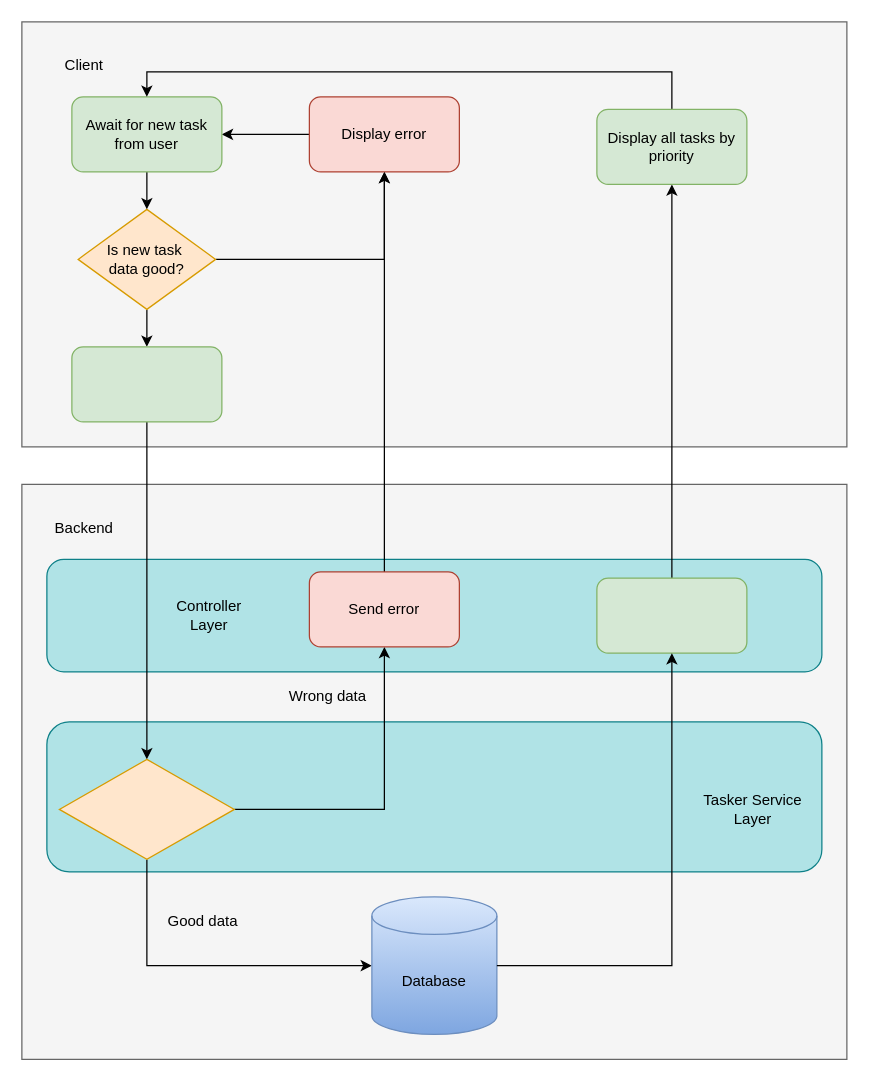
The diagram is 869 pixels wide and 1081 high, and some of its shapes have lost their labels. Here are the shapes that lost their labels. From the top down, the centre of each, then its label:
the point at 146,384: Send DTO
the point at 671,615: Send all tasks in a sorted list
the point at 146,808: Verify incoming data
